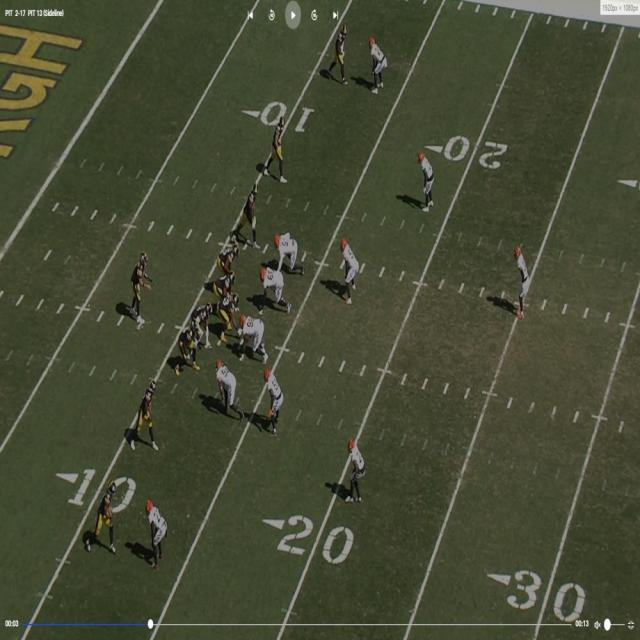center: (220, 296, 238, 334)
db: (145, 498, 165, 568), (348, 442, 366, 499), (371, 37, 388, 92), (518, 247, 530, 316), (422, 154, 436, 212)
lb: (266, 371, 284, 433), (343, 244, 360, 301)
qb: (132, 252, 150, 324)
skill: (96, 488, 119, 548), (135, 384, 155, 446), (272, 118, 289, 177), (247, 182, 263, 234), (334, 29, 348, 86)
